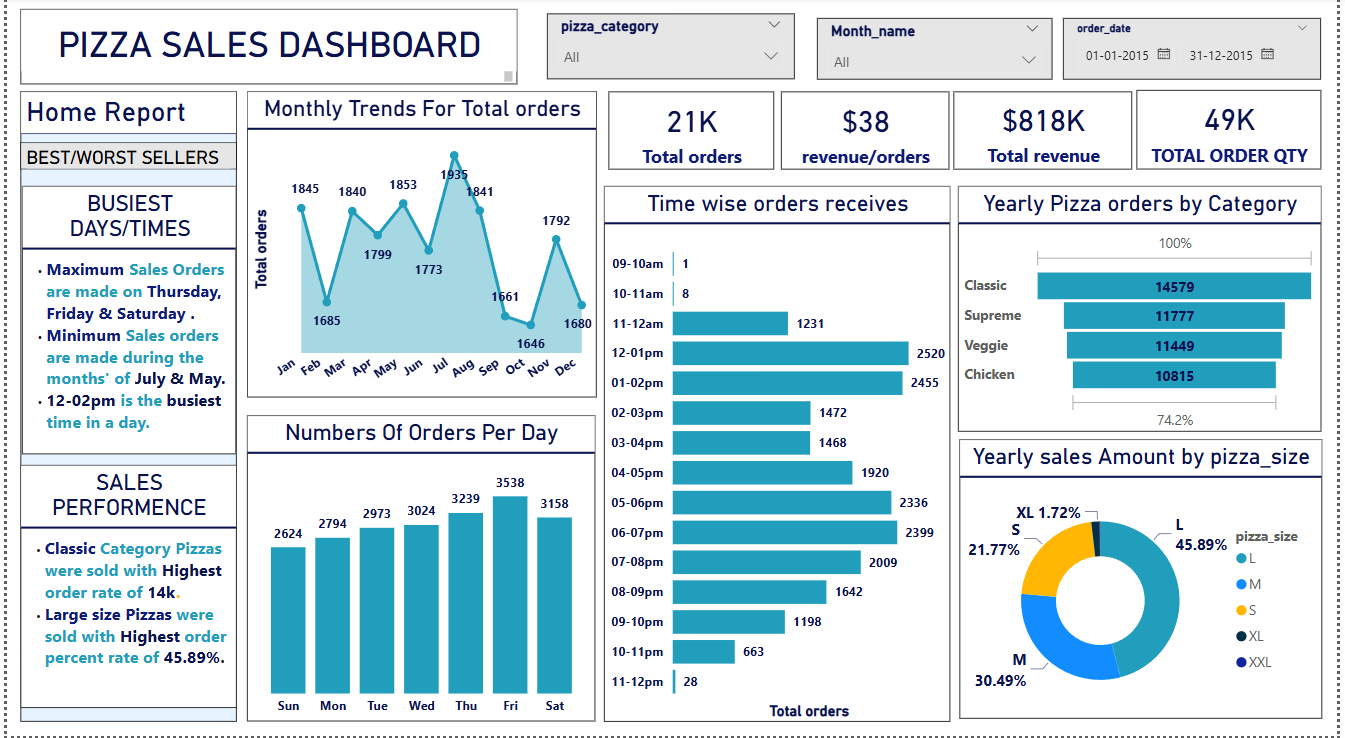

The page's visual inventory and layout, read from the dashboard file:
{"tool":"powerbi","page":{"name":"Page 3","canvas":[1295,720],"ordinal":0},"visuals":[{"type":"textbox","title":"PIZZA SALES DASHBOARD","box":[13.2,11,483.7,73.1],"z":0},{"type":"slicer","fields":{"Values":["pizza_sales.pizza_category"]},"box":[526.1,16.1,241.1,64.3],"z":1000},{"type":"slicer","fields":{"Values":["pizza_sales.Month_name"]},"box":[789.2,20.5,229.5,59.9],"z":2000},{"type":"card","title":"TOTAL REVENUE","fields":{"Values":["pizza_sales.Total revenue"]},"box":[922,92.1,173.9,76],"z":3000},{"type":"card","title":"TOTAL ORDERS","fields":{"Values":["pizza_sales.Total orders"]},"box":[586,92.1,161,76],"z":4000},{"type":"card","title":"AVG ORDER VALUE","fields":{"Values":["pizza_sales.Average order value"]},"box":[754.1,92.1,163.7,76],"z":5000},{"type":"card","title":"TOTAL SALES QTY","fields":{"Values":["pizza_sales.TOTAL ORDER QTY"]},"box":[1100.5,90.6,179.8,77.5],"z":7000},{"type":"funnel","title":"Yearly Pizza orders by Category","fields":{"Category":["pizza_sales.pizza_category"],"Y":["CountNonNull(pizza_sales.pizza_id)"]},"box":[926.6,184.1,353.7,239],"z":8000},{"type":"textbox","title":"Home Report","box":[13.2,92.1,210.5,613.8],"z":9000},{"type":"textbox","title":"BEST/WORST SELLERS","box":[13.2,141.8,210.5,26.3],"z":10000},{"type":"textbox","title":"BUSIEST DAYS/TIMES","box":[14.6,184.1,209,261.6],"z":11000},{"type":"textbox","title":"SALES PERFORMENCE","box":[13,456,210.5,236.8],"z":12000},{"type":"slicer","fields":{"Values":["pizza_sales.order_date"]},"box":[1028.9,20.5,251.4,59.9],"z":13000},{"type":"clusteredBarChart","title":"Time wise orders receives","fields":{"Category":["pizza_sales.time interval"],"Y":["pizza_sales.Total orders"]},"box":[582,184.1,337.6,521.7],"z":14000},{"type":"columnChart","title":"Numbers Of Orders Per Day","fields":{"Y":["Count(pizza_sales.order_id)"],"Category":["pizza_sales.DAY_SORT"]},"box":[233.8,407.7,339.1,298.1],"z":15000},{"type":"areaChart","title":"Monthly Trends For Total orders","fields":{"Category":["pizza_sales.MONTH_SORT"],"Y":["pizza_sales.Total orders"]},"box":[233.8,92.1,340.5,298.1],"z":16000},{"type":"donutChart","title":"Yearly sales Amount by pizza_size","fields":{"Category":["pizza_sales.pizza_size"],"Y":["pizza_sales.total_revenue"]},"box":[928,431.1,353,271.8],"z":17000}]}

Visuals, with their boxes in screenshot pixels (x1, y1, x2, y2), scaled from the page's 1295x720 canvas onto the 1345x738 screenshot:
"PIZZA SALES DASHBOARD" textbox: x1=14 y1=11 x2=516 y2=86
slicer - pizza_sales.pizza_category: x1=546 y1=17 x2=797 y2=82
slicer - pizza_sales.Month_name: x1=820 y1=21 x2=1058 y2=82
"TOTAL REVENUE" card: x1=958 y1=94 x2=1138 y2=172
"TOTAL ORDERS" card: x1=609 y1=94 x2=776 y2=172
"AVG ORDER VALUE" card: x1=783 y1=94 x2=953 y2=172
"TOTAL SALES QTY" card: x1=1143 y1=93 x2=1330 y2=172
"Yearly Pizza orders by Category" funnel: x1=962 y1=189 x2=1330 y2=434
"Home Report" textbox: x1=14 y1=94 x2=232 y2=724
"BEST/WORST SELLERS" textbox: x1=14 y1=145 x2=232 y2=172
"BUSIEST DAYS/TIMES" textbox: x1=15 y1=189 x2=232 y2=457
"SALES PERFORMENCE" textbox: x1=14 y1=467 x2=232 y2=710
slicer - pizza_sales.order_date: x1=1069 y1=21 x2=1330 y2=82
"Time wise orders receives" clusteredBarChart: x1=604 y1=189 x2=955 y2=723
"Numbers Of Orders Per Day" columnChart: x1=243 y1=418 x2=595 y2=723
"Monthly Trends For Total orders" areaChart: x1=243 y1=94 x2=596 y2=400
"Yearly sales Amount by pizza_size" donutChart: x1=964 y1=442 x2=1330 y2=720
